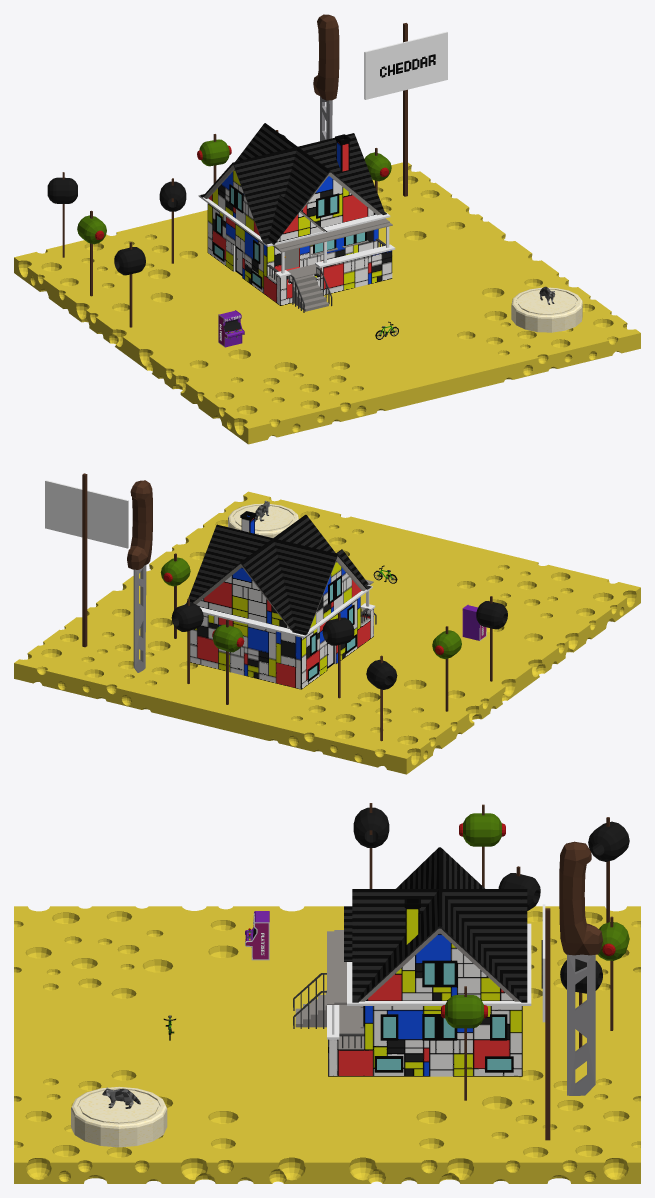
The picture shows the model from 3 angles, top to bottom: view 1: azimuth 30°, elevation 25°; view 2: azimuth 150°, elevation 25°; view 3: azimuth 270°, elevation 25°; orthographic projection. The views are drawn at different scales.
Parts seen in each view (by area): view 1: Cube.022, Cube.840, Cube.023, Cylinder.016, Cube.024, Sphere.017, Sphere.016, Sphere.020, Sphere.018, OBJRANDOM_ARCADE, Sphere.022, Sphere.019; view 2: Cube.022, Cube.840, Cube.023, Cube.024, Cylinder.016, Sphere.017, Sphere.020, Sphere.021, Sphere.016, Sphere.018, Sphere.022, Sphere.019 (+1 smaller); view 3: Cube.022, Cube.840, Cube.024, Cylinder.016, Cube.023, Sphere.019, Sphere.016, Sphere.018, Sphere.017, Sphere.022, OBJRANDOM_ARCADE, Sphere.020 (+1 smaller).
Boxes of the visible parts, bbox=[...] form: Cube.022: bbox=[14, 162, 640, 444]; Cube.840: bbox=[198, 123, 395, 312]; Cube.023: bbox=[364, 23, 447, 196]; Cylinder.016: bbox=[511, 287, 582, 332]; Cube.024: bbox=[313, 14, 339, 141]; Sphere.017: bbox=[114, 242, 145, 327]; Sphere.016: bbox=[47, 172, 77, 257]; Sphere.020: bbox=[159, 178, 186, 263]; Sphere.018: bbox=[77, 210, 106, 296]; OBJRANDOM_ARCADE: bbox=[218, 310, 244, 347]; Sphere.022: bbox=[197, 134, 231, 183]; Sphere.019: bbox=[364, 148, 391, 192]; Cube.022: bbox=[14, 491, 640, 774]; Cube.840: bbox=[184, 511, 376, 689]; Cube.023: bbox=[45, 473, 128, 647]; Cube.024: bbox=[127, 480, 152, 672]; Cylinder.016: bbox=[228, 503, 298, 537]; Sphere.017: bbox=[476, 596, 507, 681]; Sphere.020: bbox=[322, 612, 354, 698]; Sphere.021: bbox=[171, 598, 203, 683]; Sphere.016: bbox=[366, 655, 397, 741]; Sphere.018: bbox=[432, 626, 461, 711]; Sphere.022: bbox=[212, 619, 244, 704]; Sphere.019: bbox=[160, 553, 190, 638]; Cube.022: bbox=[14, 906, 640, 1183]; Cube.840: bbox=[293, 847, 531, 1076]; Cube.024: bbox=[559, 841, 602, 1095]; Cylinder.016: bbox=[71, 1086, 167, 1147]; Cube.023: bbox=[541, 904, 550, 1140]; Sphere.019: bbox=[441, 986, 487, 1100]; Sphere.016: bbox=[588, 817, 629, 922]; Sphere.018: bbox=[459, 804, 505, 887]; Sphere.017: bbox=[353, 803, 389, 888]; Sphere.022: bbox=[598, 916, 629, 1030]; OBJRANDOM_ARCADE: bbox=[245, 911, 269, 960]; Sphere.020: bbox=[498, 866, 540, 910].
Bounding box in the file's own units: 3917 × 2010 × 4000.
Materials: 37 (4 with a texture image).
